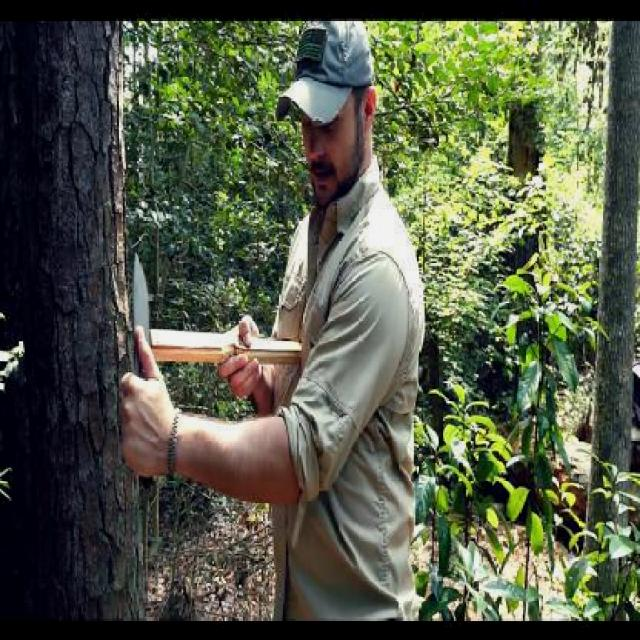knife: (112, 246, 163, 465)
